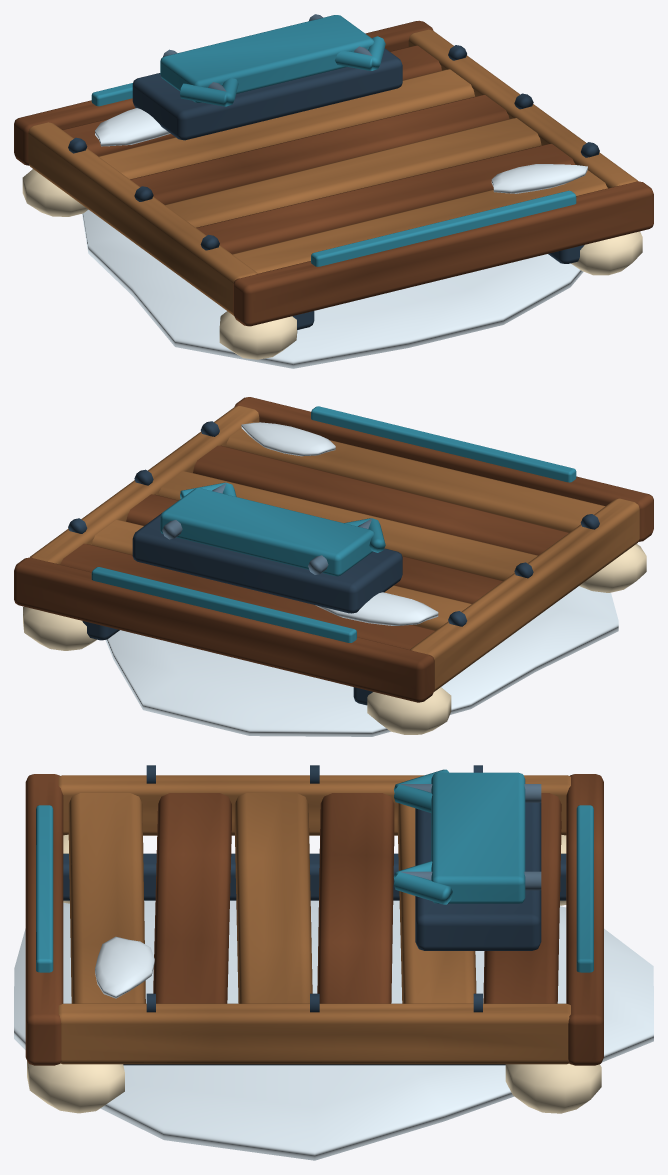
The model's file is pad_input.glb.
3 renders of one model, top to bottom at view 1: azimuth 30°, elevation 25°; view 2: azimuth 150°, elevation 25°; view 3: azimuth 270°, elevation 25°, orthographic. The views are drawn at different scales.
Parts seen in each view (by area): view 1: pad_input; view 2: pad_input; view 3: pad_input.
Boxes of the visible parts, x1,y1,x2,y2 form: pad_input: [14, 14, 653, 368]; pad_input: [14, 397, 653, 736]; pad_input: [14, 765, 653, 1160].
Size of the model in its own units: 2.14 by 0.725 by 2.04.
